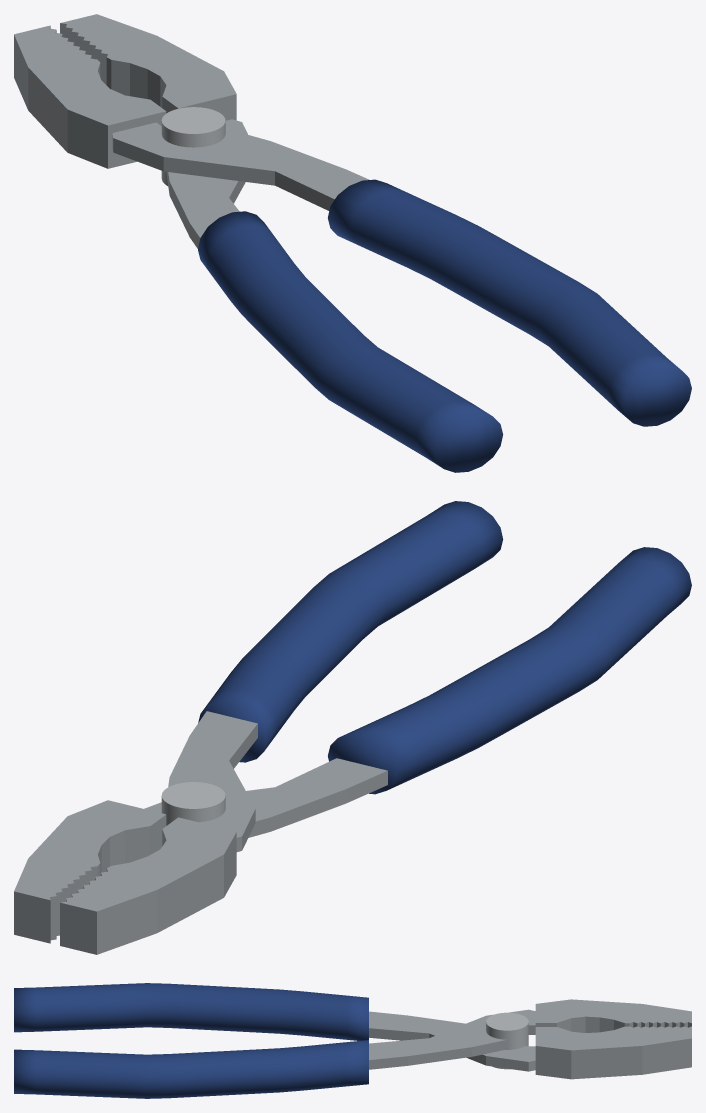
3 views of the same model, one above another, from view 1: azimuth 30°, elevation 25°; view 2: azimuth 150°, elevation 25°; view 3: azimuth 270°, elevation 25° (orthographic). The views are drawn at different scales.
Parts seen in each view (by area): view 1: Left jaw right handle molded grip, Right jaw left handle molded grip, Left jaw right handle serrated combination jaw, Right jaw left handle serrated combination jaw, Left jaw right handle half lap steel arm, Right jaw left handle half lap steel arm, Fixed central pivot rivet; view 2: Right jaw left handle molded grip, Left jaw right handle molded grip, Left jaw right handle serrated combination jaw, Right jaw left handle serrated combination jaw, Left jaw right handle half lap steel arm, Right jaw left handle half lap steel arm, Fixed central pivot rivet; view 3: Left jaw right handle molded grip, Right jaw left handle molded grip, Right jaw left handle serrated combination jaw, Left jaw right handle half lap steel arm, Left jaw right handle serrated combination jaw, Right jaw left handle half lap steel arm, Fixed central pivot rivet.
Boxes of the visible parts, box(x1,y1,x2,y2) form: Left jaw right handle molded grip: box(328, 179, 691, 426); Right jaw left handle molded grip: box(198, 211, 503, 472); Left jaw right handle serrated combination jaw: box(14, 25, 166, 168); Right jaw left handle serrated combination jaw: box(60, 14, 236, 120); Left jaw right handle half lap steel arm: box(112, 122, 369, 210); Right jaw left handle half lap steel arm: box(166, 119, 247, 248); Fixed central pivot rivet: box(161, 107, 225, 185); Right jaw left handle molded grip: box(328, 547, 691, 794); Left jaw right handle molded grip: box(198, 501, 503, 762); Left jaw right handle serrated combination jaw: box(60, 817, 236, 954); Right jaw left handle serrated combination jaw: box(14, 800, 166, 943); Left jaw right handle half lap steel arm: box(168, 711, 257, 851); Right jaw left handle half lap steel arm: box(144, 758, 387, 837); Fixed central pivot rivet: box(161, 782, 225, 825); Left jaw right handle molded grip: box(14, 1040, 368, 1098); Right jaw left handle molded grip: box(14, 983, 368, 1040); Right jaw left handle serrated combination jaw: box(535, 1026, 691, 1079); Left jaw right handle half lap steel arm: box(369, 1009, 535, 1069); Left jaw right handle serrated combination jaw: box(535, 999, 691, 1032); Right jaw left handle half lap steel arm: box(369, 1011, 535, 1071); Fixed central pivot rivet: box(486, 1012, 528, 1069).
Size of the model in its own units: 0.0627 by 0.012 by 0.191.
